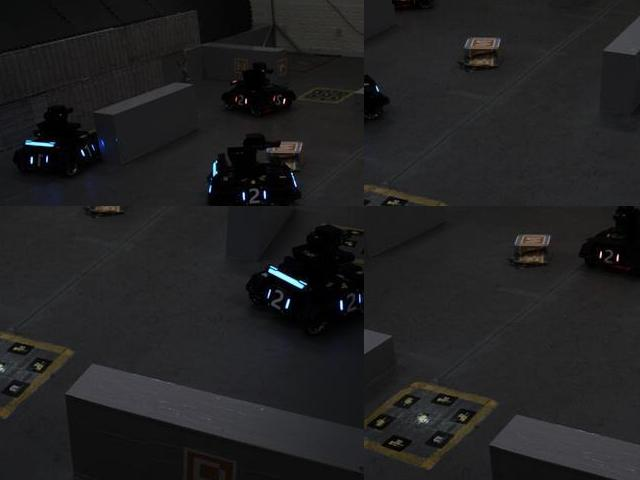armor: (262, 280, 294, 317), (235, 183, 272, 205), (26, 151, 54, 173), (335, 291, 363, 313), (594, 245, 622, 267), (76, 139, 99, 162), (231, 88, 251, 112), (269, 90, 290, 110), (392, 0, 417, 6)
